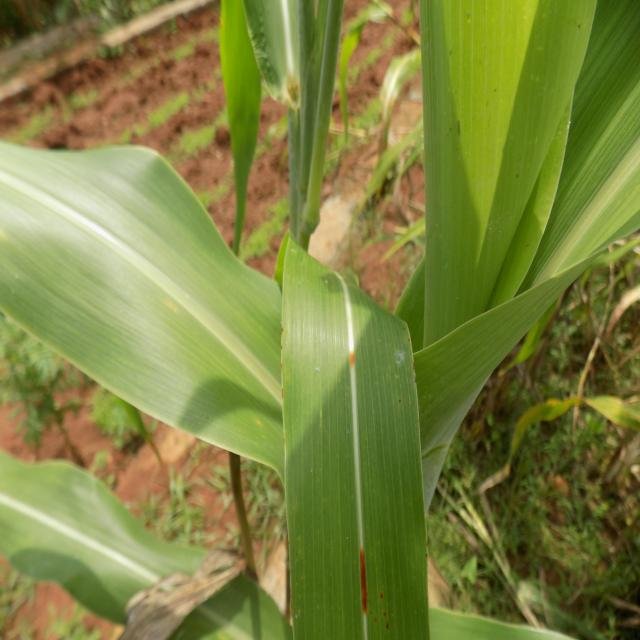millet_healthy: (0, 136, 282, 480), (422, 0, 599, 436), (280, 247, 431, 640), (0, 457, 293, 640), (219, 0, 257, 255)
millet_rust: (119, 548, 247, 640)
